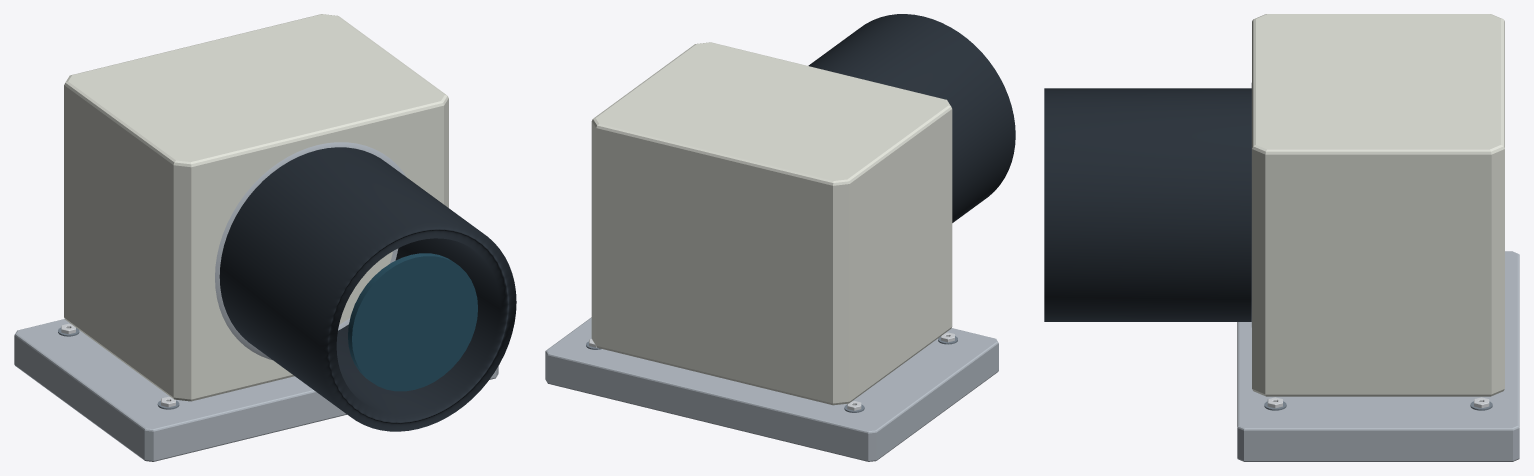
File: surveyor-sensors.glb
The picture shows the model from 3 angles, left to right: view 1: azimuth 30°, elevation 25°; view 2: azimuth 150°, elevation 25°; view 3: azimuth 270°, elevation 25°; orthographic projection. The views are drawn at different scales.
Parts seen in each view (by area): view 1: CANOPUS_COVER_Surveyor_white_thermal_coating, CANOPUS_COVER_Anodized_aluminium, CANOPUS_BRACKET_Machined_aluminium, CANOPUS_SENSOR_Optical_objective, BORED_FLANGE_2_Machined_aluminium; view 2: CANOPUS_COVER_Surveyor_white_thermal_coating, CANOPUS_BRACKET_Machined_aluminium, CANOPUS_COVER_Anodized_aluminium; view 3: CANOPUS_COVER_Surveyor_white_thermal_coating, CANOPUS_COVER_Anodized_aluminium, CANOPUS_BRACKET_Machined_aluminium.
Boxes of the visible parts, x1,y1,x2,y2 form: CANOPUS_COVER_Surveyor_white_thermal_coating: (64,14,448,401); CANOPUS_COVER_Anodized_aluminium: (219,147,516,431); CANOPUS_BRACKET_Machined_aluminium: (14,319,498,461); CANOPUS_SENSOR_Optical_objective: (348,253,477,391); BORED_FLANGE_2_Machined_aluminium: (215,142,406,360); CANOPUS_COVER_Surveyor_white_thermal_coating: (591,42,952,405); CANOPUS_BRACKET_Machined_aluminium: (545,317,998,461); CANOPUS_COVER_Anodized_aluminium: (808,14,1015,222); CANOPUS_COVER_Surveyor_white_thermal_coating: (1252,14,1504,396); CANOPUS_COVER_Anodized_aluminium: (1044,88,1251,321); CANOPUS_BRACKET_Machined_aluminium: (1237,251,1519,461).
Bounding box in the file's own units: 0.1514 × 0.1156 × 0.1707.
